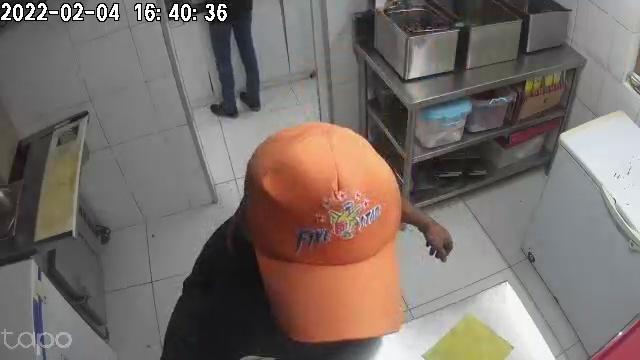no_gloves: (423, 218, 454, 263)
